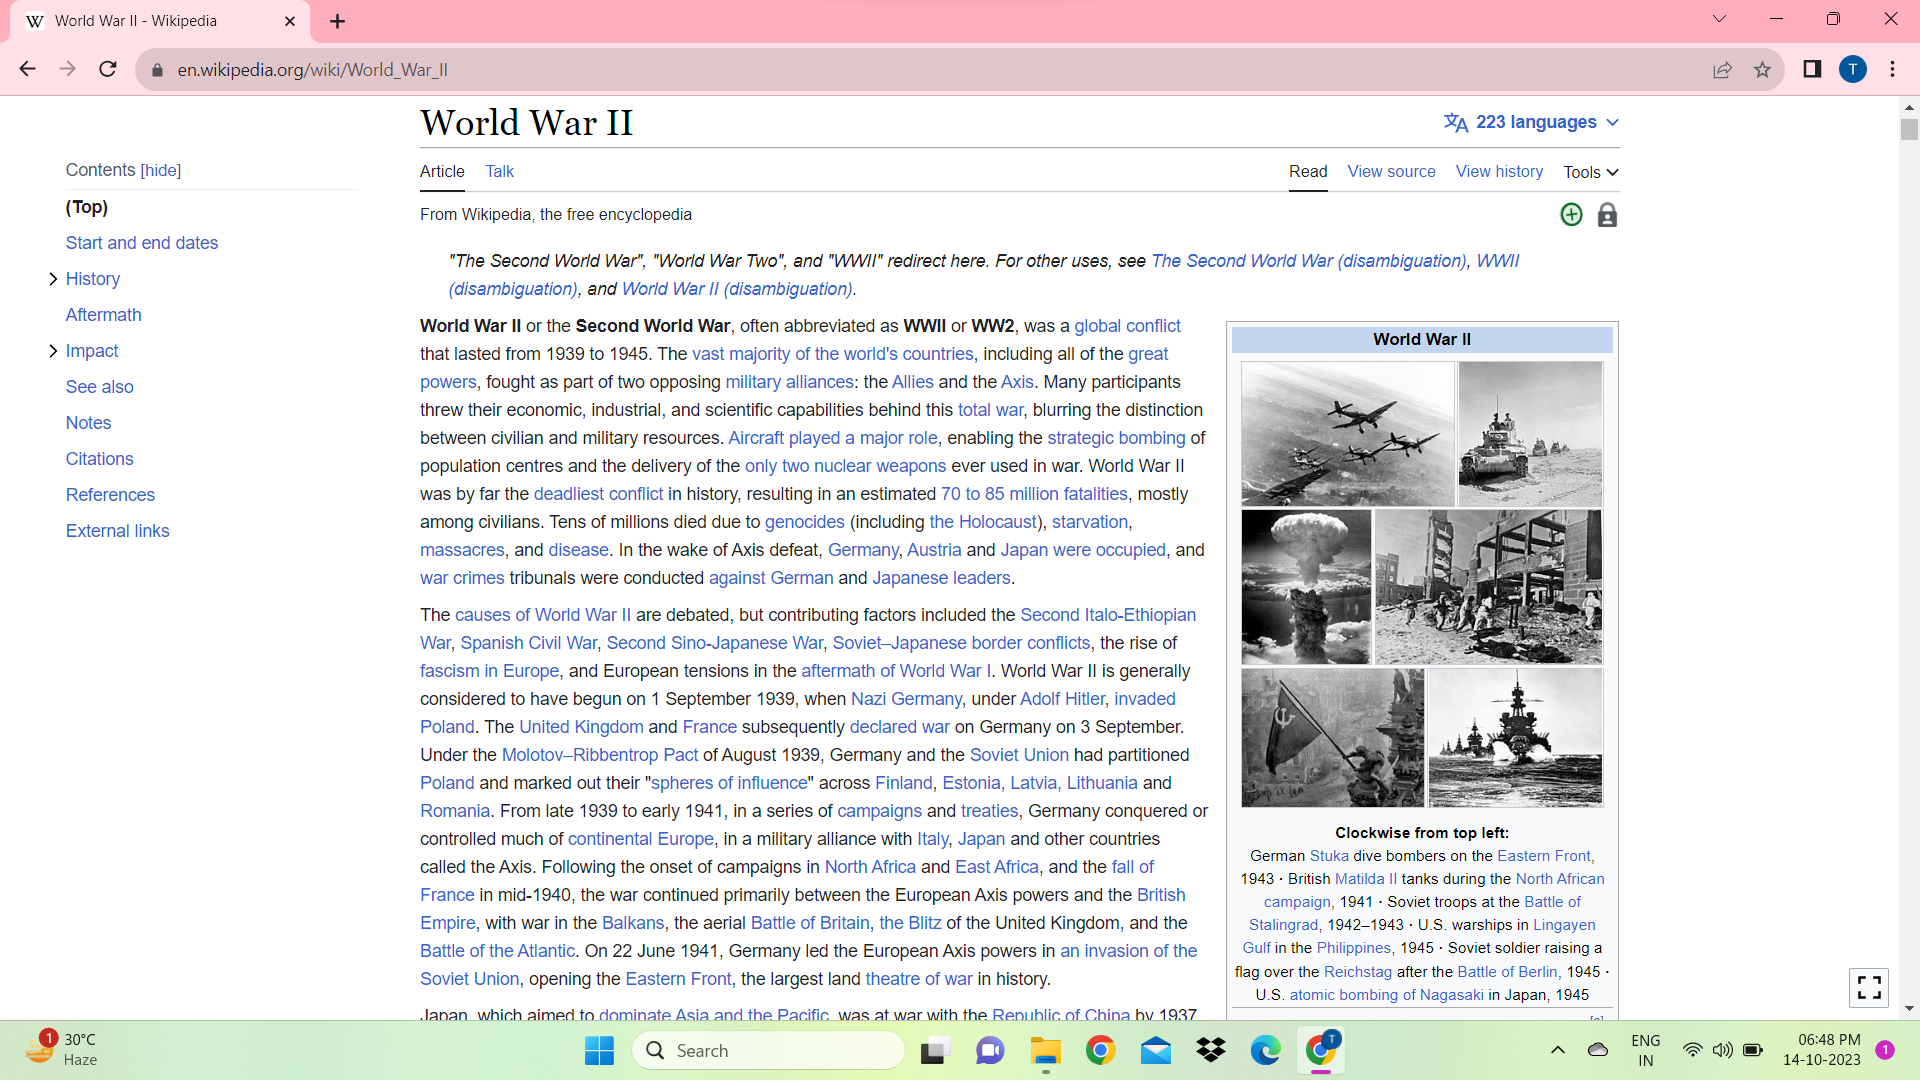Image: (1232, 359, 1609, 811)
Paragraph: (410, 597, 1208, 988), (404, 306, 1215, 587), (1224, 824, 1614, 1010), (438, 245, 1540, 299), (401, 104, 667, 145), (423, 196, 699, 224), (1348, 316, 1497, 356), (58, 228, 228, 255), (54, 516, 179, 546), (58, 156, 190, 181), (58, 479, 170, 506), (62, 442, 153, 472), (1455, 160, 1547, 187), (1346, 160, 1439, 186), (61, 302, 157, 323), (61, 264, 132, 289), (410, 160, 471, 186), (67, 187, 115, 220), (477, 156, 525, 187), (1553, 157, 1605, 186), (65, 376, 142, 394), (1273, 164, 1336, 186), (65, 340, 125, 360), (58, 410, 119, 430)
